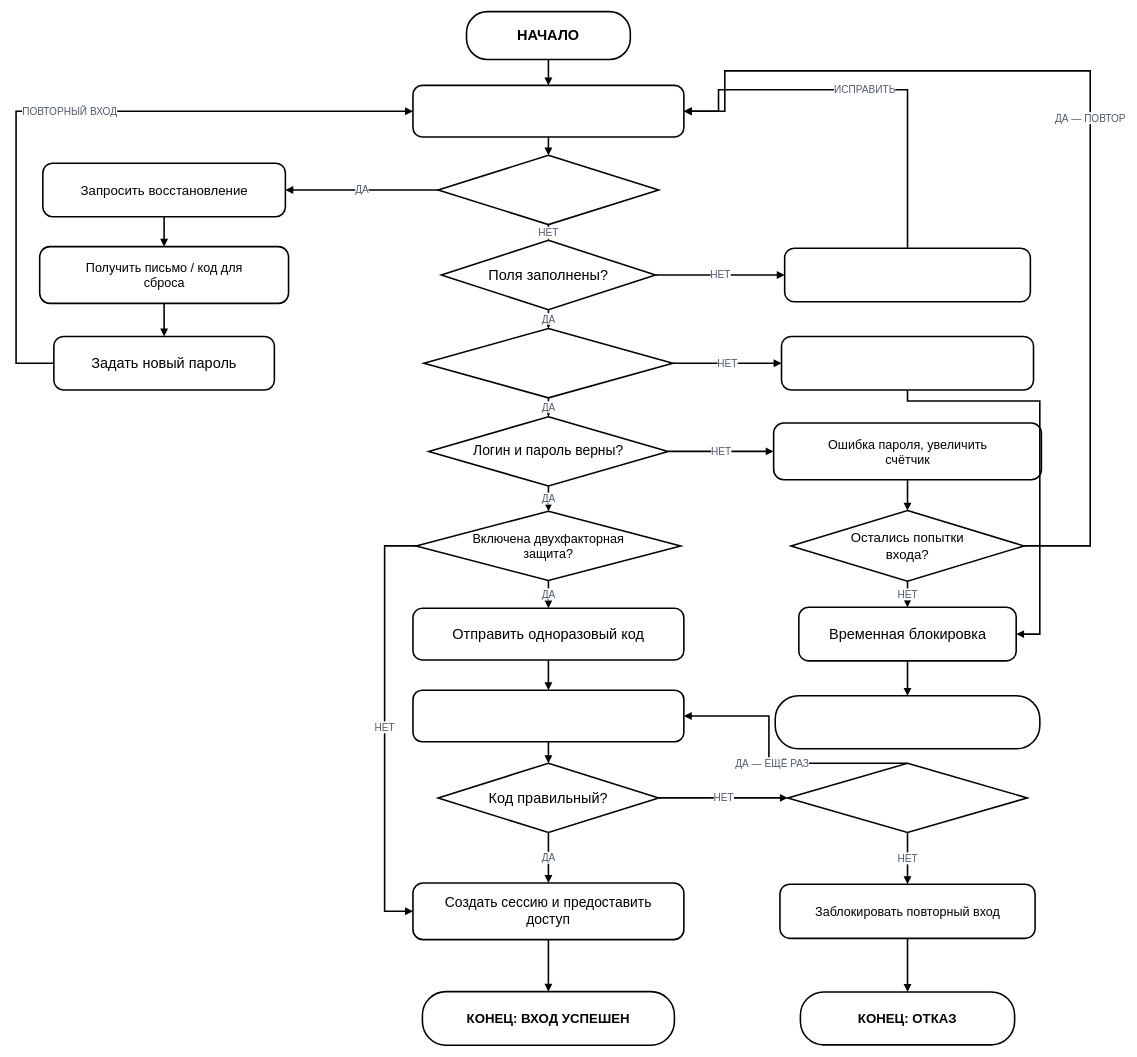
The diagram is 1137 pixels wide and 1057 high, and some of its shapes have lost their labels. Here are the shapes that lost their labels. From the top down, the centre of each, then its label:
(x=548, y=111): Ввести логин и пароль
(x=548, y=189): Забыли пароль?
(x=907, y=274): Показать ошибку заполнения
(x=548, y=362): Попыток входа меньше 5?
(x=907, y=362): Заблокировать вход на 15 минут
(x=548, y=715): Ввести код подтверждения
(x=907, y=722): КОНЕЦ: ДОСТУП ЗАКРЫТ
(x=907, y=797): Остались попытки кода?
